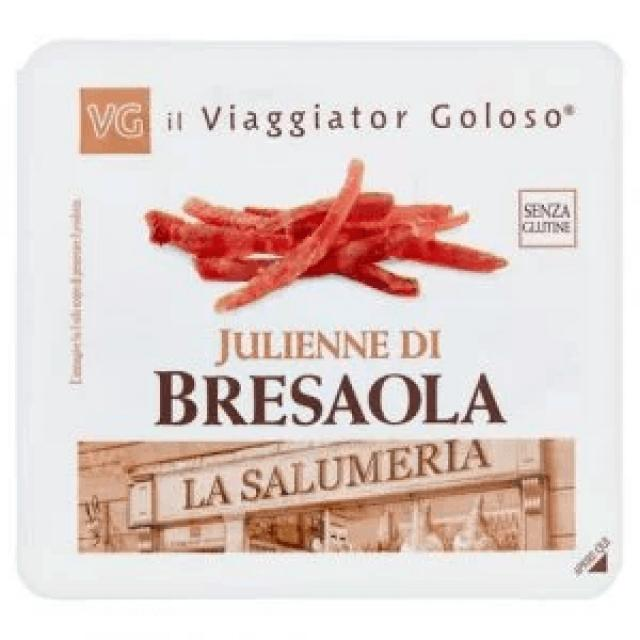ham: (15, 38, 623, 602)
